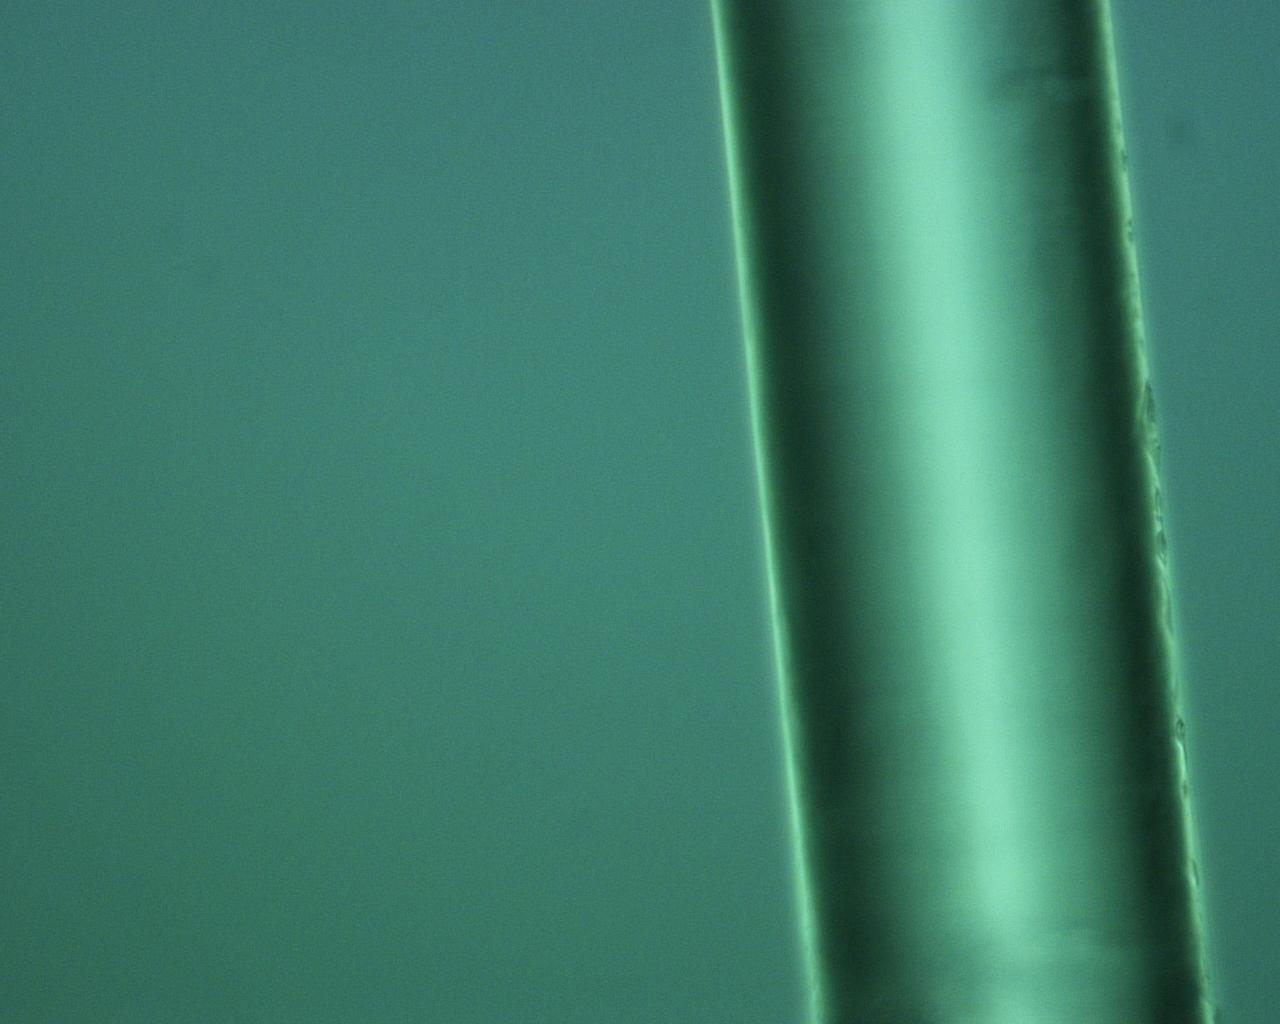fiber: (707, 0, 1209, 1024)
